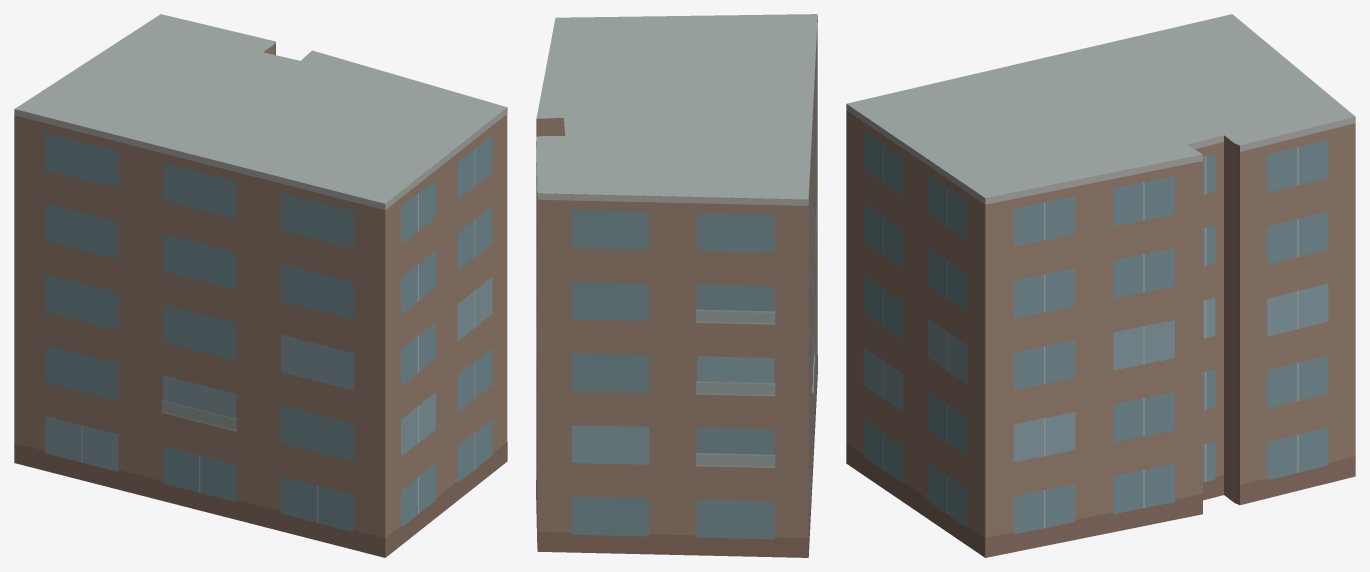
File: survey-upis-32735161.glb
3 views of the same model, side by side, from view 1: azimuth 30°, elevation 25°; view 2: azimuth 150°, elevation 25°; view 3: azimuth 270°, elevation 25° (orthographic).
Parts seen in each view (by area): view 1: survey-upis-32735161.tmp; view 2: survey-upis-32735161.tmp; view 3: survey-upis-32735161.tmp.
Boxes of the visible parts, x1,y1,x2,y2 form: survey-upis-32735161.tmp: [14, 14, 507, 557]; survey-upis-32735161.tmp: [536, 14, 817, 557]; survey-upis-32735161.tmp: [846, 14, 1355, 557].
Bounding box in the file's own units: 14.95 × 13.6 × 17.46.
